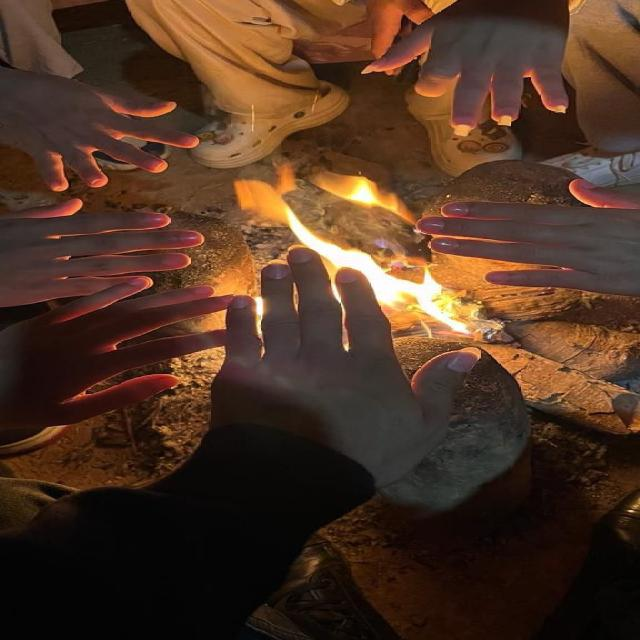fire: (282, 171, 469, 334)
